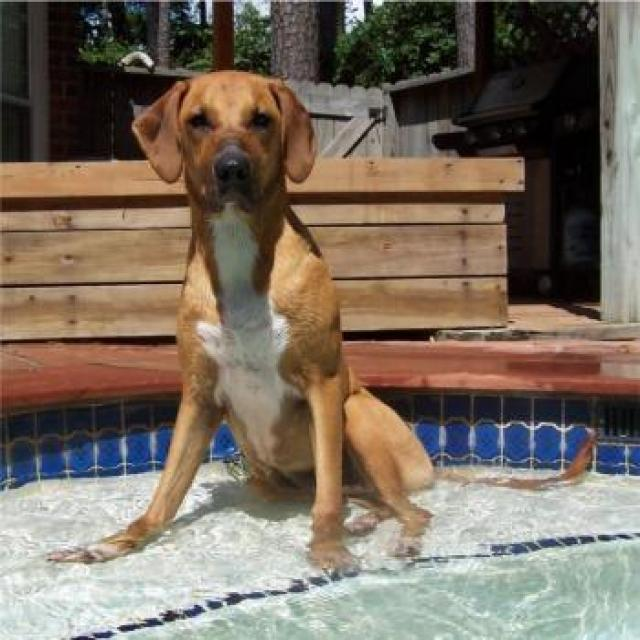rhodesian_ridgeback: (39, 64, 596, 588)
